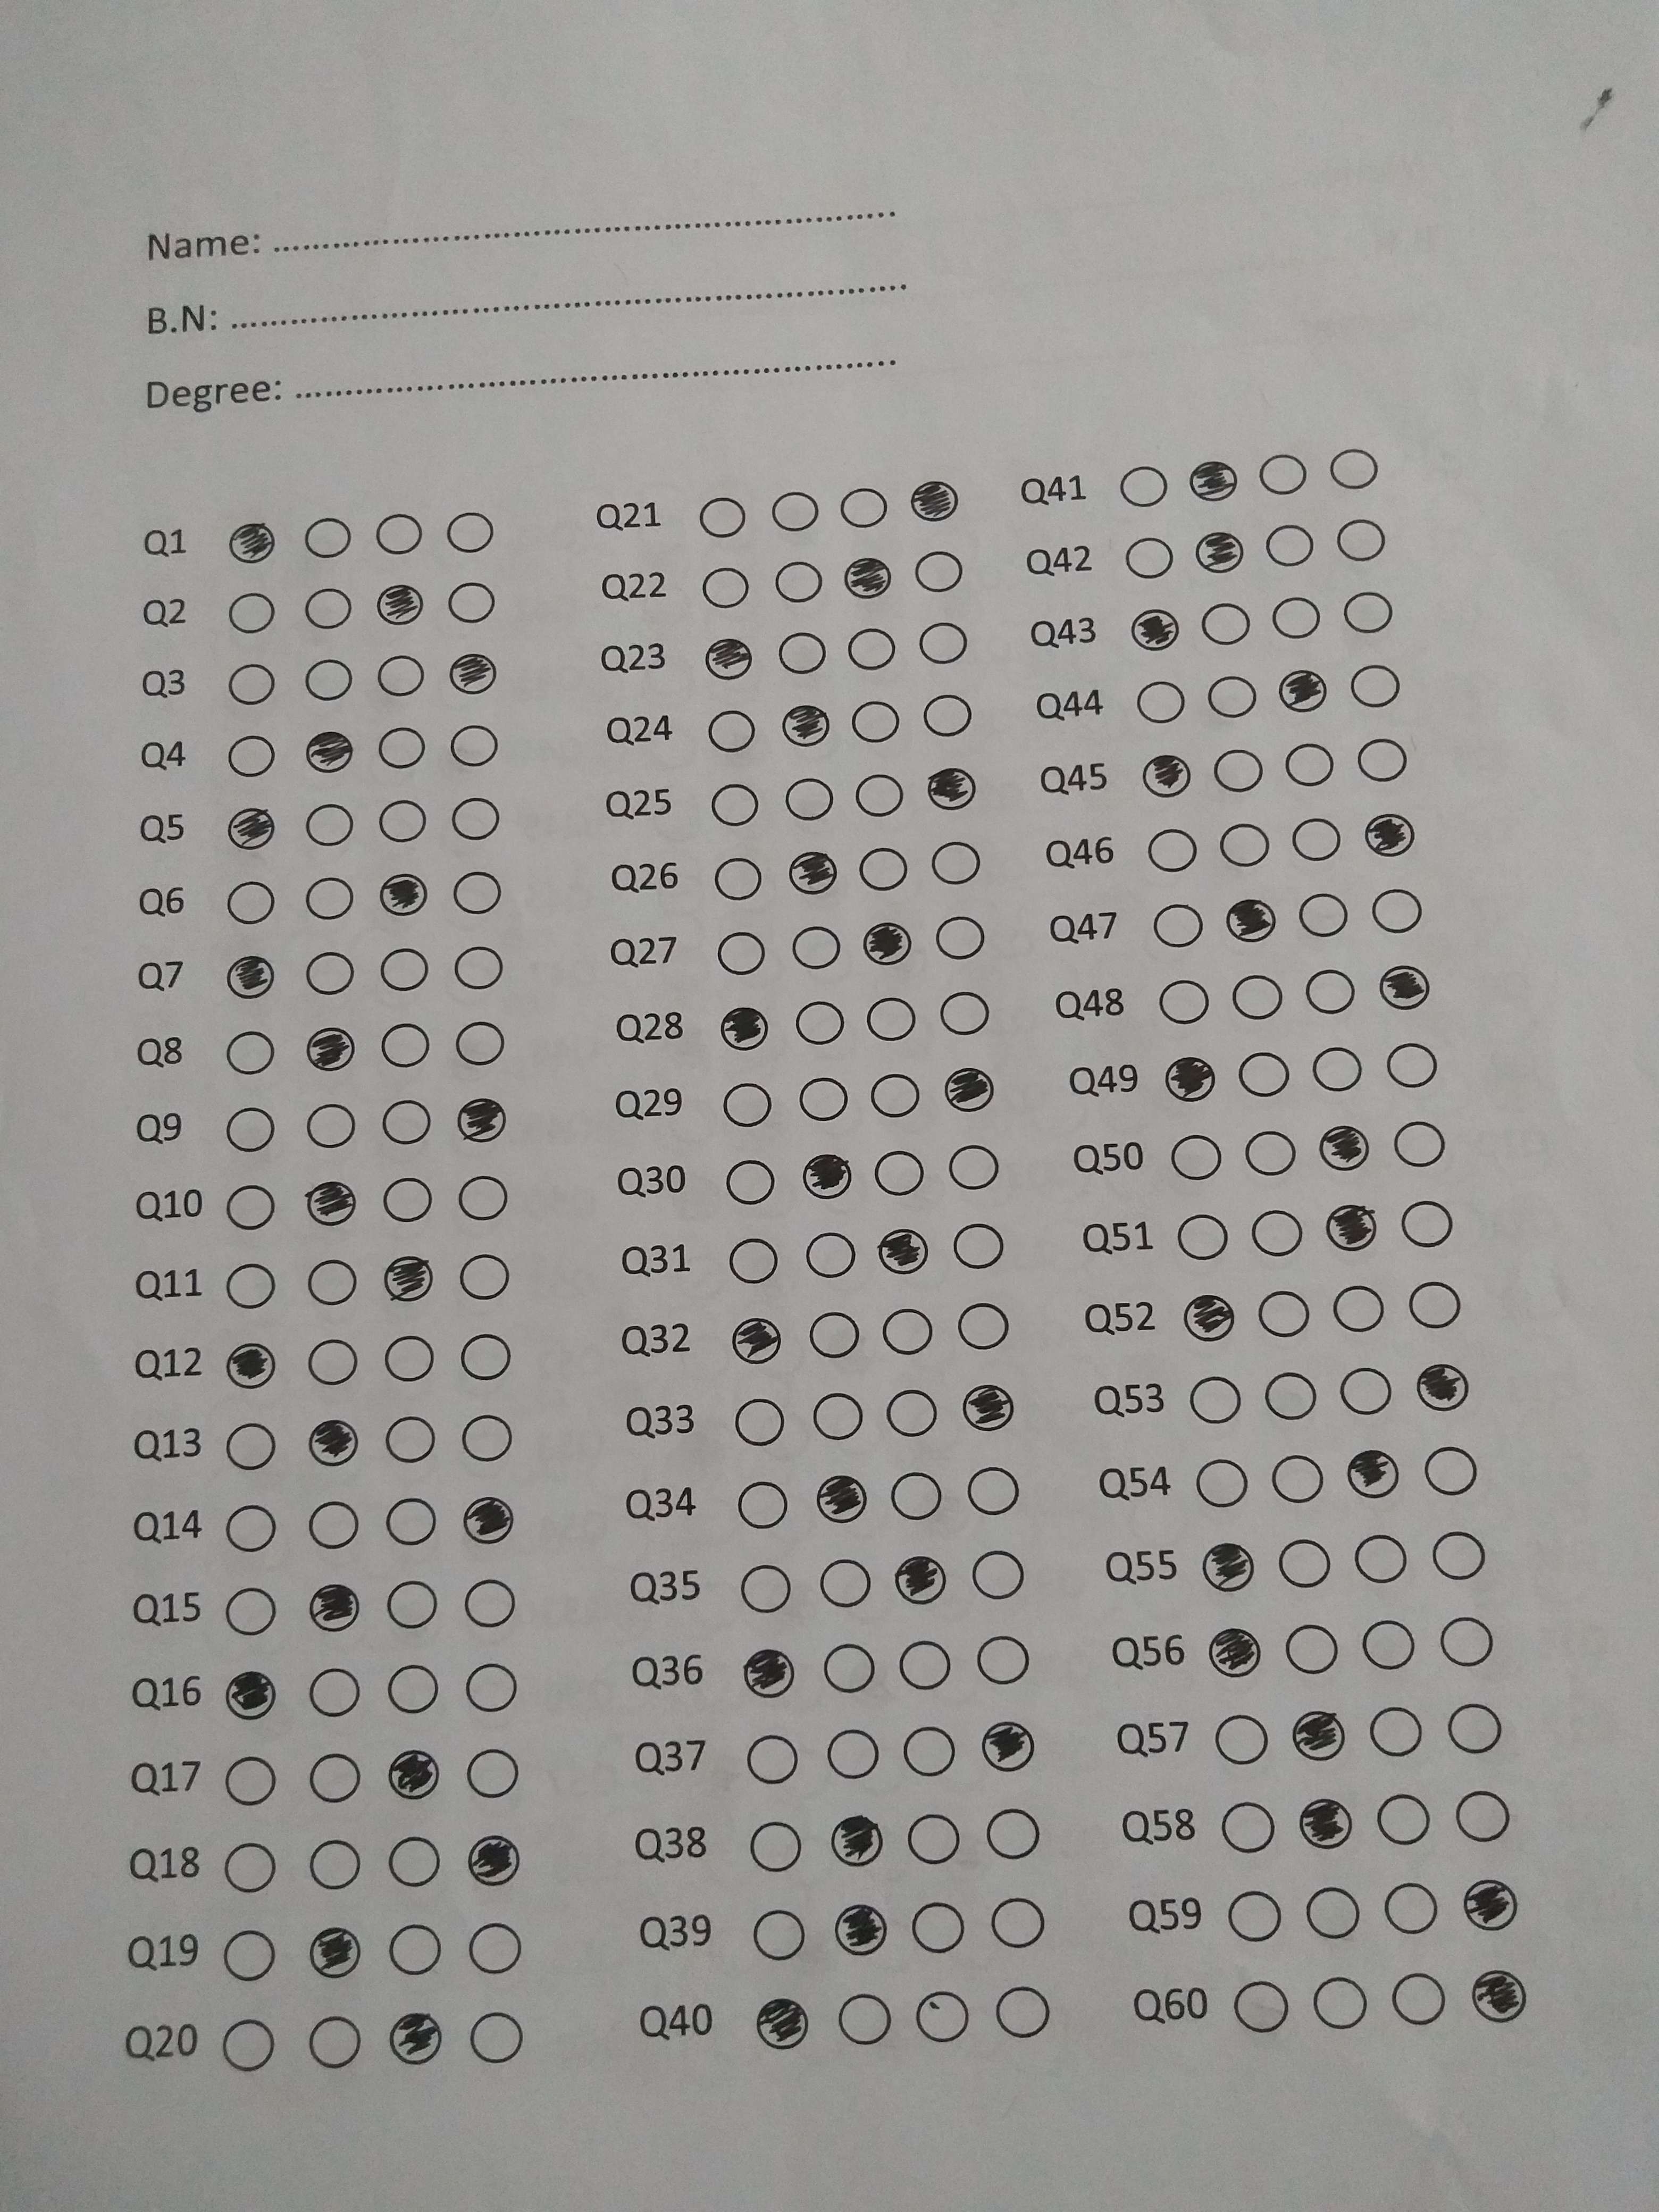not-c: (1331, 1348, 1408, 1437), (938, 1211, 1014, 1291), (1443, 1787, 1523, 1862), (739, 1902, 821, 1975), (1436, 1698, 1514, 1773), (1380, 1874, 1452, 1954), (889, 1627, 964, 1702), (1309, 1968, 1382, 2045), (985, 1893, 1054, 1973), (1371, 1782, 1441, 1862), (713, 1231, 796, 1298), (972, 1629, 1047, 1702), (376, 1827, 455, 1897), (906, 1893, 976, 1972), (978, 1794, 1051, 1867), (894, 1803, 969, 1874), (1220, 1881, 1291, 1956), (214, 2008, 284, 2085), (938, 1137, 1011, 1209), (798, 1224, 870, 1298), (296, 1489, 366, 1564), (802, 1301, 871, 1376), (809, 1547, 878, 1622), (1300, 1878, 1368, 1954), (960, 1456, 1026, 1533), (728, 1554, 803, 1620), (819, 1632, 885, 1707), (1279, 1609, 1345, 1684), (744, 1808, 809, 1885), (877, 1296, 939, 1374), (990, 1979, 1058, 2050), (300, 1325, 366, 1399), (453, 1327, 519, 1400), (859, 1066, 932, 1132), (1342, 1527, 1417, 1592), (1199, 1714, 1283, 1771), (221, 1097, 291, 1165), (451, 1247, 519, 1317), (1305, 1040, 1373, 1109), (453, 1406, 519, 1477), (462, 2006, 533, 2073), (1415, 1439, 1486, 1505), (887, 1456, 951, 1529), (965, 1541, 1030, 1615), (1187, 1456, 1260, 1521), (376, 1660, 451, 1723), (1417, 1527, 1492, 1590), (714, 1073, 784, 1139), (1215, 1794, 1286, 1858), (301, 2006, 364, 2080), (828, 1987, 901, 2050), (1115, 528, 1188, 590), (1223, 1980, 1298, 2041), (795, 1068, 861, 1136), (744, 1731, 810, 1799), (824, 1724, 890, 1792), (911, 1980, 978, 2048), (1380, 1109, 1448, 1176), (1246, 1200, 1314, 1266), (1267, 1453, 1335, 1519), (455, 1656, 525, 1721), (877, 1386, 950, 1447), (1251, 1278, 1317, 1345), (1183, 1369, 1249, 1435), (927, 988, 995, 1052), (863, 1144, 931, 1209), (1150, 974, 1218, 1038), (1380, 1035, 1445, 1103), (373, 1170, 443, 1233), (296, 1667, 366, 1730), (214, 1839, 286, 1900), (1354, 1616, 1425, 1677), (1288, 806, 1347, 880), (1319, 441, 1394, 498), (303, 1256, 369, 1320), (782, 920, 847, 986), (1140, 819, 1204, 885), (1436, 1611, 1500, 1677), (1260, 1364, 1323, 1432), (1359, 1703, 1427, 1766), (1159, 1129, 1232, 1186), (301, 1832, 366, 1897), (382, 1919, 448, 1982), (896, 1723, 962, 1785), (1342, 587, 1405, 653), (1298, 963, 1361, 1029), (295, 946, 362, 1007), (920, 691, 988, 752), (721, 1150, 789, 1211), (453, 1580, 523, 1639), (786, 995, 856, 1054), (1328, 514, 1401, 570), (920, 836, 985, 899), (915, 617, 976, 683), (1237, 1045, 1298, 1111), (375, 1413, 443, 1472), (216, 1261, 286, 1318), (1342, 660, 1413, 716), (1201, 745, 1274, 799), (444, 716, 505, 780), (376, 1329, 441, 1390), (1269, 590, 1333, 651), (1354, 733, 1415, 798), (1363, 887, 1427, 948), (462, 1921, 528, 1980), (699, 702, 765, 761), (1267, 1538, 1342, 1590), (1127, 672, 1195, 730), (1389, 1970, 1446, 2038), (378, 1092, 441, 1153), (457, 1169, 518, 1231), (382, 1491, 443, 1554), (383, 1578, 444, 1641), (462, 1742, 523, 1804), (781, 772, 842, 834), (728, 1393, 791, 1454), (1169, 1205, 1232, 1266), (803, 1388, 868, 1447), (220, 1754, 286, 1811), (1112, 458, 1178, 516), (214, 1926, 282, 1982), (1405, 1280, 1473, 1336), (1255, 446, 1316, 507), (444, 939, 507, 998), (298, 1103, 361, 1162), (774, 625, 838, 683), (948, 1301, 1012, 1359), (373, 648, 432, 709), (1328, 1280, 1389, 1339), (709, 855, 772, 913), (448, 792, 504, 857), (376, 1014, 432, 1078), (850, 846, 915, 902), (735, 1479, 795, 1538), (221, 1423, 282, 1480), (223, 1503, 281, 1564), (1229, 967, 1286, 1028), (1396, 1195, 1457, 1252), (451, 1014, 507, 1076), (1260, 516, 1324, 570), (444, 575, 497, 641), (690, 559, 756, 611), (927, 913, 993, 965), (373, 794, 430, 853), (849, 768, 908, 826), (863, 991, 920, 1050), (1204, 671, 1263, 728), (1141, 902, 1211, 951), (443, 502, 495, 566), (298, 582, 354, 641), (220, 1029, 279, 1085), (450, 866, 502, 928), (218, 1179, 281, 1231), (221, 1587, 279, 1642), (711, 923, 769, 979), (1279, 738, 1340, 791), (1297, 890, 1352, 946), (221, 878, 279, 932), (376, 948, 434, 1001), (692, 491, 751, 543), (1197, 596, 1256, 648), (1216, 819, 1276, 871), (1243, 1127, 1302, 1179), (847, 695, 906, 747), (305, 1754, 366, 1804), (223, 728, 277, 784), (843, 627, 903, 678), (835, 484, 889, 538), (300, 514, 355, 566), (227, 583, 279, 639), (375, 509, 425, 566), (708, 780, 765, 831), (303, 871, 355, 925), (774, 554, 826, 608), (378, 723, 429, 779), (227, 660, 275, 718), (913, 549, 969, 597), (770, 484, 823, 535), (305, 655, 352, 711), (305, 803, 355, 850)
taken-c: (1467, 1965, 1530, 2024), (829, 1810, 887, 1871), (1460, 1878, 1521, 1935), (387, 2008, 446, 2066), (831, 1902, 889, 1959), (464, 1834, 525, 1888), (223, 1665, 279, 1723), (753, 1996, 810, 2052), (979, 1717, 1037, 1773), (1199, 1538, 1256, 1594), (1298, 1792, 1354, 1850), (387, 1743, 441, 1803), (458, 1494, 519, 1547), (1159, 1054, 1222, 1104), (739, 1646, 795, 1702), (892, 1552, 948, 1608), (1345, 1446, 1401, 1501), (1291, 1707, 1347, 1763), (308, 1923, 362, 1980), (1204, 1625, 1262, 1679), (380, 1251, 434, 1306), (960, 1381, 1016, 1435), (1180, 1291, 1236, 1345), (1220, 895, 1279, 946), (871, 1228, 932, 1277), (223, 801, 279, 853), (307, 1418, 362, 1470), (814, 1474, 870, 1526), (728, 1313, 784, 1366), (800, 1151, 856, 1204), (701, 634, 756, 686), (1317, 1122, 1373, 1174), (1413, 1362, 1471, 1413), (308, 1580, 361, 1634), (1363, 808, 1417, 860), (1324, 1200, 1378, 1252), (223, 1339, 279, 1390), (303, 1177, 361, 1226), (446, 648, 500, 698), (303, 1022, 357, 1073), (455, 1096, 509, 1146), (718, 1005, 772, 1055), (1378, 961, 1432, 1012), (301, 726, 357, 775), (859, 920, 915, 968), (924, 763, 979, 812), (1190, 528, 1246, 577), (786, 848, 840, 897), (842, 554, 896, 603), (941, 1066, 997, 1113), (1185, 456, 1241, 503), (378, 869, 429, 920), (1143, 751, 1194, 801), (1127, 606, 1182, 653), (223, 954, 275, 1001), (1277, 667, 1330, 714), (908, 479, 962, 524), (225, 519, 275, 566), (373, 583, 425, 629), (779, 704, 833, 747)
